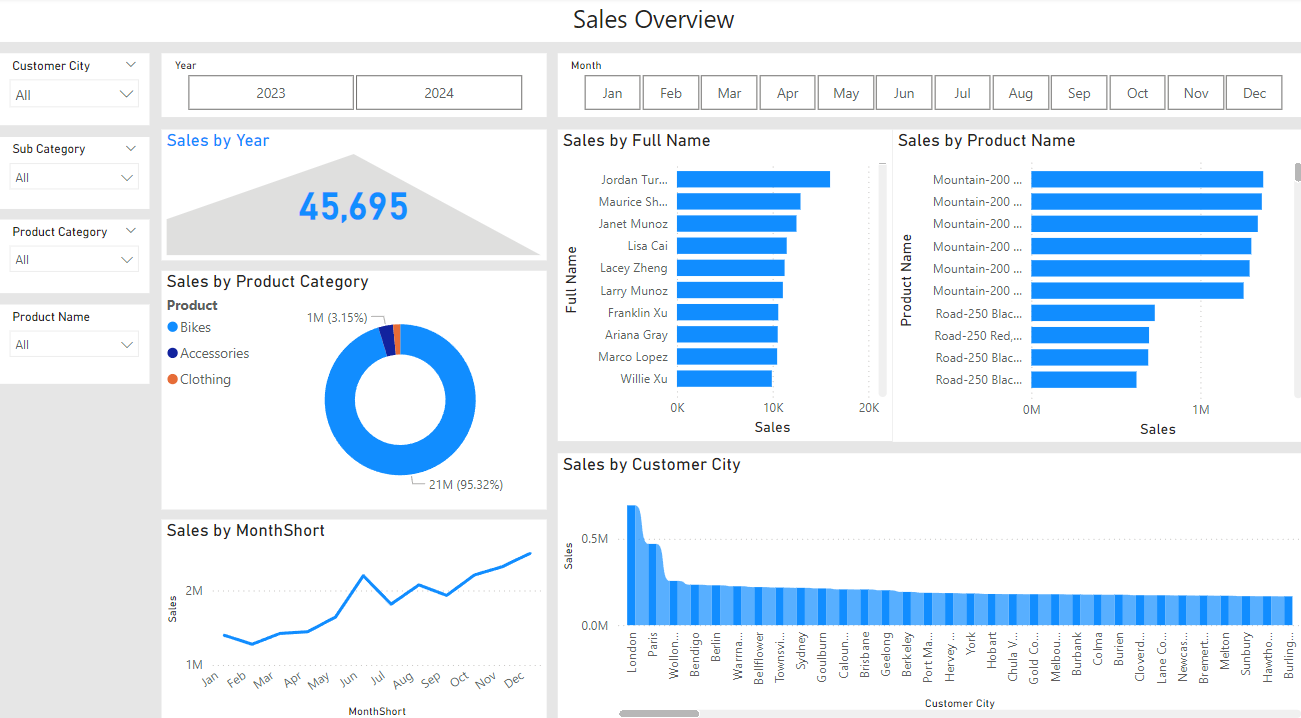

The page's visual inventory and layout, read from the dashboard file:
{"tool":"powerbi","page":{"name":"Page 1","canvas":[1280,720],"ordinal":0},"visuals":[{"type":"textbox","box":[0,0,1280.3,44],"z":0},{"type":"slicer","fields":{"Values":["Dim_Customers.Customer City"]},"box":[0,55.3,147.1,70.6],"z":1000},{"type":"slicer","fields":{"Values":["Dim_Products.Sub Category"]},"box":[0,136.5,147.1,70.6],"z":2000},{"type":"slicer","fields":{"Values":["Dim_Products.Product Name"]},"box":[0,301.2,147.1,77.6],"z":3000},{"type":"slicer","fields":{"Values":["Dim_Products.Product Category"]},"box":[0,217.6,147.1,71.8],"z":4000},{"type":"slicer","fields":{"Values":["Dim_Calendar.Year"]},"box":[158.8,55.3,376.5,62.4],"z":5000},{"type":"slicer","fields":{"Values":["Dim_Calendar.MonthShort"]},"box":[547.1,55.3,732.9,62.4],"z":6000},{"type":"kpi","fields":{"TrendLine":["Dim_Calendar.Date.Variation.Date Hierarchy.Year"],"Indicator":["Key Measures.Sales"]},"box":[158.8,129.4,376.5,128.2],"z":7000},{"type":"donutChart","fields":{"Category":["Dim_Products.Product Category"],"Y":["Key Measures.Sales"]},"box":[159,267.8,376.6,233.6],"z":8000},{"type":"lineChart","fields":{"Y":["Key Measures.Sales"],"Category":["Dim_Calendar.MonthShort"]},"box":[159,511.1,376.6,199.3],"z":9000},{"type":"barChart","fields":{"Y":["Key Measures.Sales"],"Category":["Dim_Customers.Full Name"]},"box":[547.1,129.4,327.1,304.7],"z":10000},{"type":"barChart","fields":{"Y":["Key Measures.Sales"],"Category":["Dim_Products.Product Name"]},"box":[874.1,129.4,405.9,305.9],"z":11000},{"type":"ribbonChart","fields":{"Category":["Dim_Customers.Customer City"],"Y":["Key Measures.Sales"]},"box":[546.6,446.3,732.5,264.1],"z":12000}]}

Visuals, with their boxes in screenshot pixels (x1, y1, x2, y2), scaled from the page's 1280x720 canvas onto the 1301x718 screenshot:
textbox: {"left": 0, "top": 0, "right": 1300, "bottom": 44}
slicer - Dim_Customers.Customer City: {"left": 0, "top": 55, "right": 150, "bottom": 126}
slicer - Dim_Products.Sub Category: {"left": 0, "top": 136, "right": 150, "bottom": 207}
slicer - Dim_Products.Product Name: {"left": 0, "top": 300, "right": 150, "bottom": 378}
slicer - Dim_Products.Product Category: {"left": 0, "top": 217, "right": 150, "bottom": 289}
slicer - Dim_Calendar.Year: {"left": 161, "top": 55, "right": 544, "bottom": 117}
slicer - Dim_Calendar.MonthShort: {"left": 556, "top": 55, "right": 1300, "bottom": 117}
kpi - Dim_Calendar.Date.Variation.Date Hierarchy.Year x Key Measures.Sales: {"left": 161, "top": 129, "right": 544, "bottom": 257}
donutChart - Dim_Products.Product Category x Key Measures.Sales: {"left": 162, "top": 267, "right": 544, "bottom": 500}
lineChart - Key Measures.Sales x Dim_Calendar.MonthShort: {"left": 162, "top": 510, "right": 544, "bottom": 708}
barChart - Key Measures.Sales x Dim_Customers.Full Name: {"left": 556, "top": 129, "right": 889, "bottom": 433}
barChart - Key Measures.Sales x Dim_Products.Product Name: {"left": 888, "top": 129, "right": 1300, "bottom": 434}
ribbonChart - Dim_Customers.Customer City x Key Measures.Sales: {"left": 556, "top": 445, "right": 1300, "bottom": 708}
